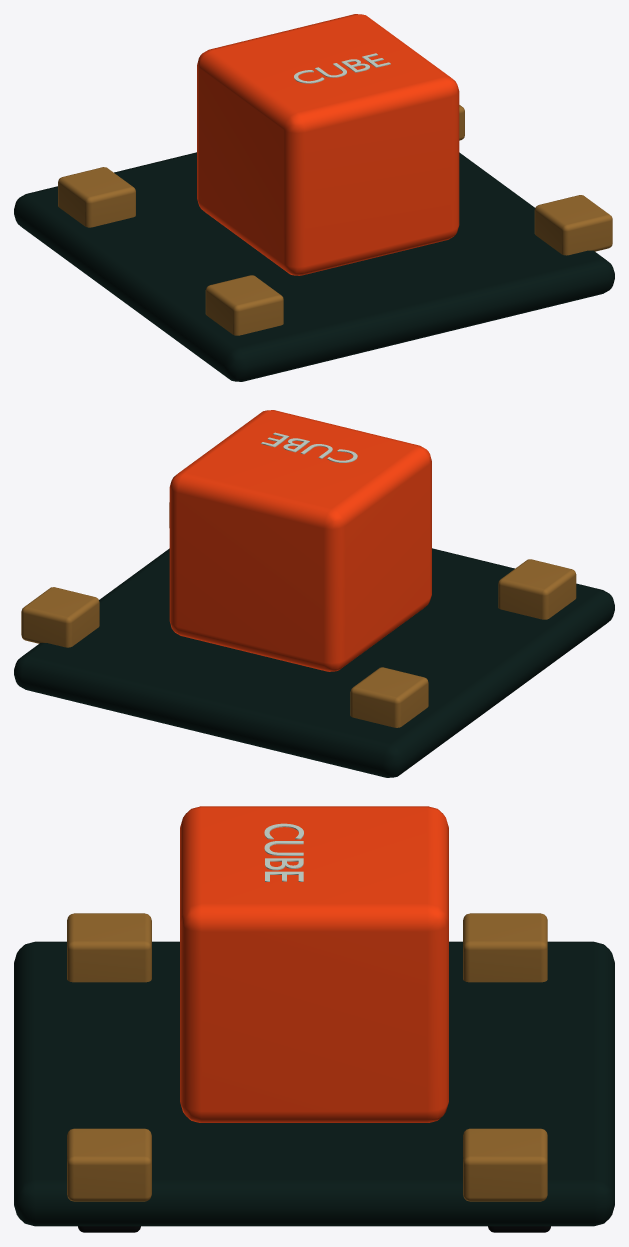
The model's file is cube_flight_controller.obj.
3 renders of one model, top to bottom at view 1: azimuth 30°, elevation 25°; view 2: azimuth 150°, elevation 25°; view 3: azimuth 270°, elevation 25°, orthographic. The views are drawn at different scales.
Parts seen in each view (by area): view 1: Autopilot_carrier_board, Cube_Orange_flight_controller, Autopilot_connector.002, Autopilot_connector, Autopilot_connector.001, Cube_marking; view 2: Autopilot_carrier_board, Cube_Orange_flight_controller, Autopilot_connector.003, Autopilot_connector, Autopilot_connector.001, Cube_marking; view 3: Autopilot_carrier_board, Cube_Orange_flight_controller, Autopilot_connector.002, Autopilot_connector.003, Autopilot_connector, Autopilot_connector.001, Cube_marking.
Boxes of the visible parts, left/top/right/bottom form: Autopilot_carrier_board: left=14, top=152, right=614, bottom=381; Cube_Orange_flight_controller: left=197, top=14, right=459, bottom=275; Autopilot_connector.002: left=534, top=195, right=612, bottom=255; Autopilot_connector: left=205, top=275, right=283, bottom=335; Autopilot_connector.001: left=58, top=167, right=135, bottom=227; Cube_marking: left=294, top=53, right=390, bottom=83; Autopilot_carrier_board: left=14, top=548, right=614, bottom=777; Cube_Orange_flight_controller: left=169, top=410, right=431, bottom=671; Autopilot_connector.003: left=21, top=587, right=99, bottom=647; Autopilot_connector: left=498, top=559, right=576, bottom=619; Autopilot_connector.001: left=350, top=667, right=428, bottom=727; Cube_marking: left=261, top=432, right=357, bottom=462; Autopilot_carrier_board: left=14, top=941, right=614, bottom=1226; Cube_Orange_flight_controller: left=180, top=806, right=448, bottom=1122; Autopilot_connector.002: left=67, top=1128, right=151, bottom=1201; Autopilot_connector.003: left=463, top=1128, right=547, bottom=1201; Autopilot_connector: left=67, top=913, right=151, bottom=982; Autopilot_connector.001: left=463, top=913, right=547, bottom=982; Cube_marking: left=264, top=823, right=303, bottom=881.
Size of the model in its own units: 0.088 by 0.0451 by 0.085.
